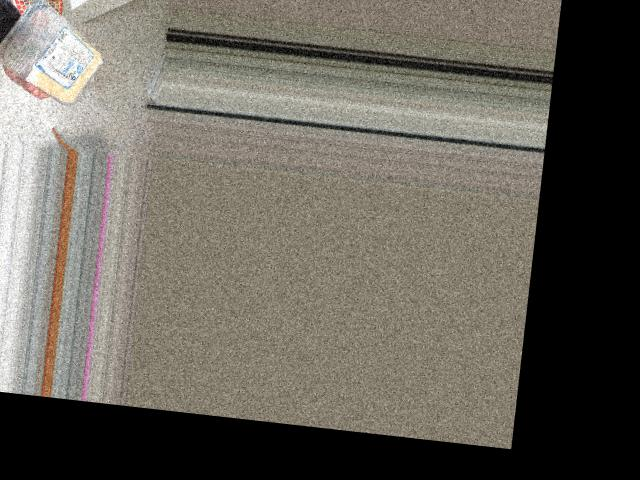cheese: (0, 2, 111, 101)
